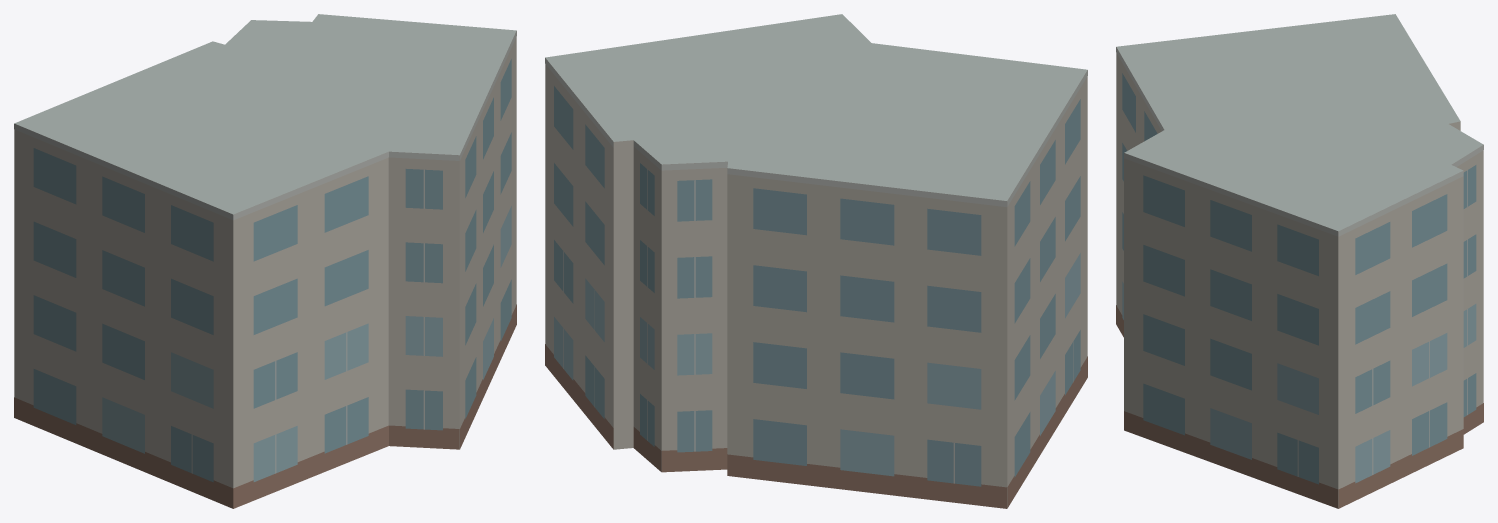
File: survey-upis-32755756.glb
The picture shows the model from 3 angles, left to right: view 1: azimuth 30°, elevation 25°; view 2: azimuth 150°, elevation 25°; view 3: azimuth 270°, elevation 25°; orthographic projection. The views are drawn at different scales.
Parts seen in each view (by area): view 1: survey-upis-32755756.tmp; view 2: survey-upis-32755756.tmp; view 3: survey-upis-32755756.tmp.
Boxes of the visible parts, x1,y1,x2,y2 form: survey-upis-32755756.tmp: [14, 14, 516, 508]; survey-upis-32755756.tmp: [545, 14, 1087, 508]; survey-upis-32755756.tmp: [1116, 14, 1483, 508].
Bounding box in the file's own units: 20.66 × 12.3 × 14.77.
